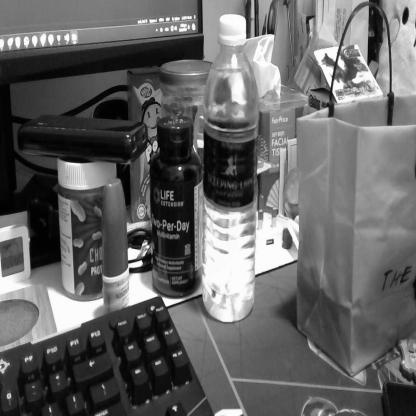plastic_bottles: (202, 11, 259, 324)
